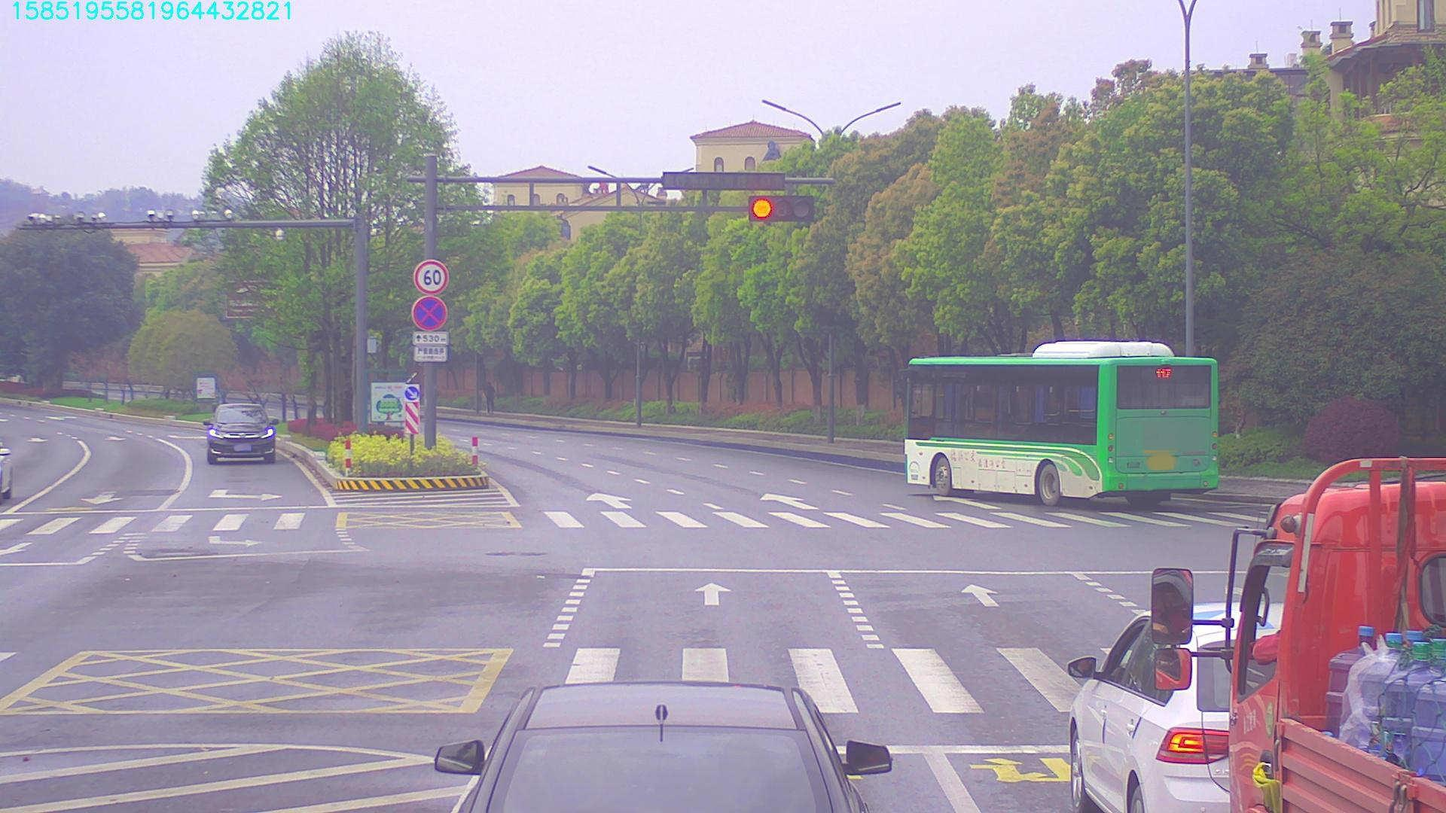red: (746, 195, 820, 221)
